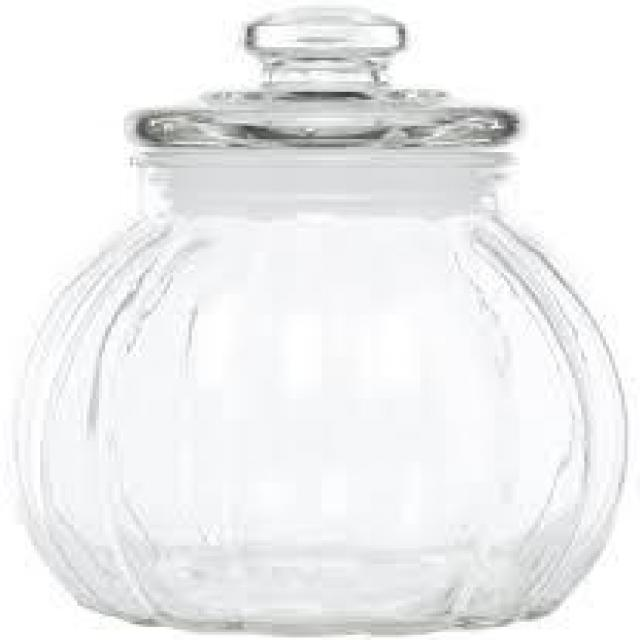non-organic waste: (9, 5, 631, 640)
